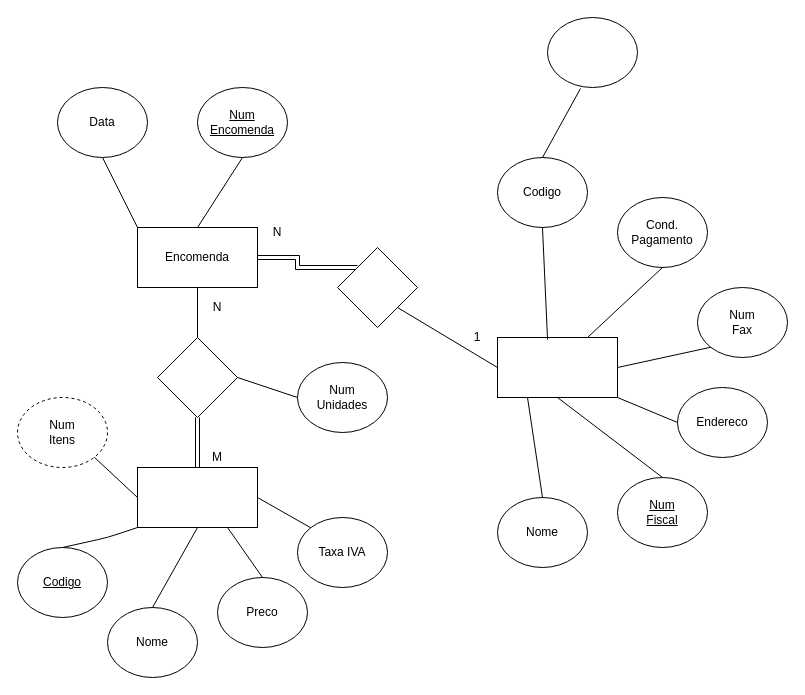
Image size: 805x695. Some labels were removed from this diagram. The shapes that lost their labels are listed below. From the top down, each one's centre as x and y in pixels, then its label:
At (592,52): "Designacao".
At (377,287): "Tem".
At (197,377): "Item".
At (557,367): "Fornecedor".
At (197,497): "Produto".
